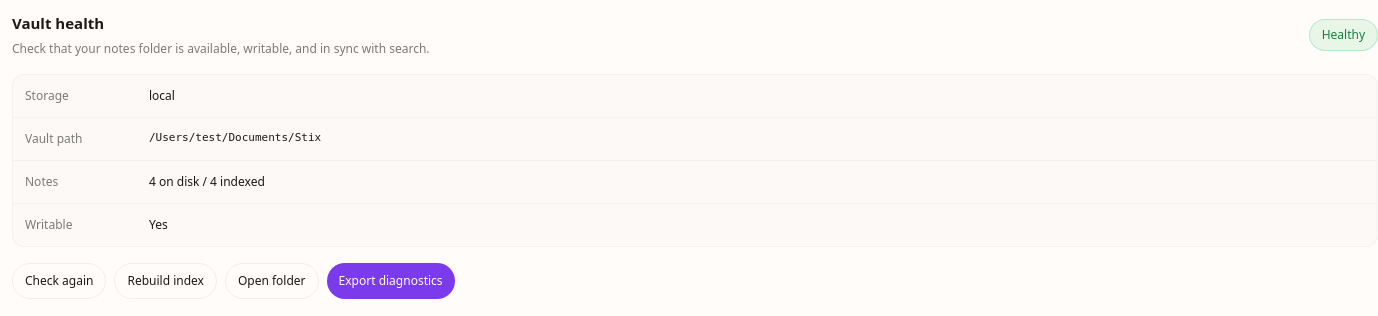
Test: VaultHealth › exports diagnostics to the explicitly selected file
Expected: the text "/Users/test/Documents/Stix" is shown, x1=149 y1=131 x2=321 y2=144
Click the button "Export diagnostics" at [391, 281], box x1=327 y1=263 x2=455 y2=299
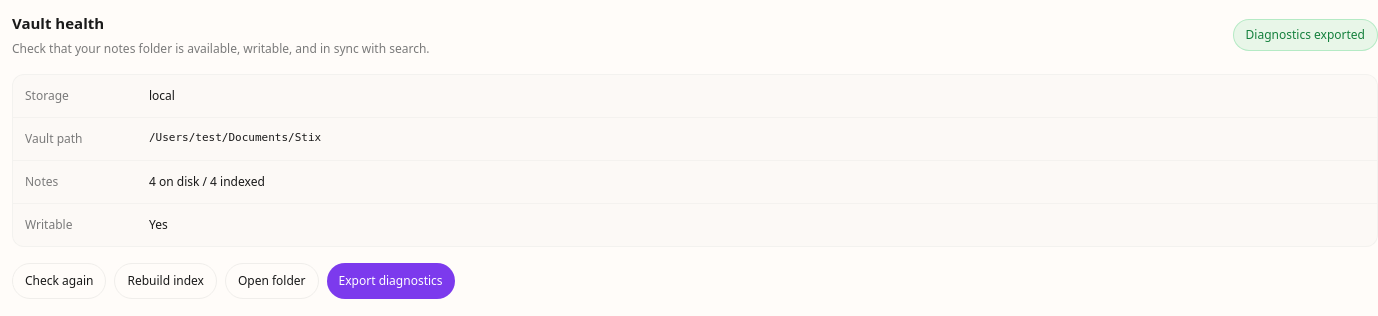
Expected: the message reads "Diagnostics exported", x1=1246 y1=26 x2=1365 y2=43
